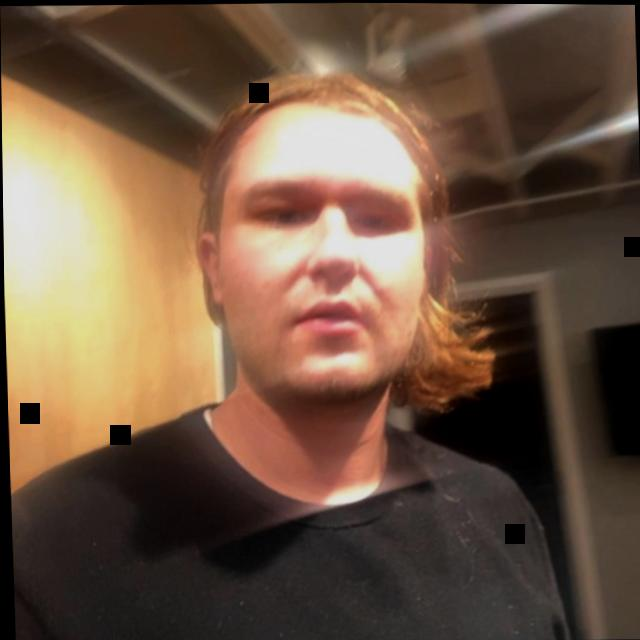NO-Mask: (159, 44, 508, 490)
